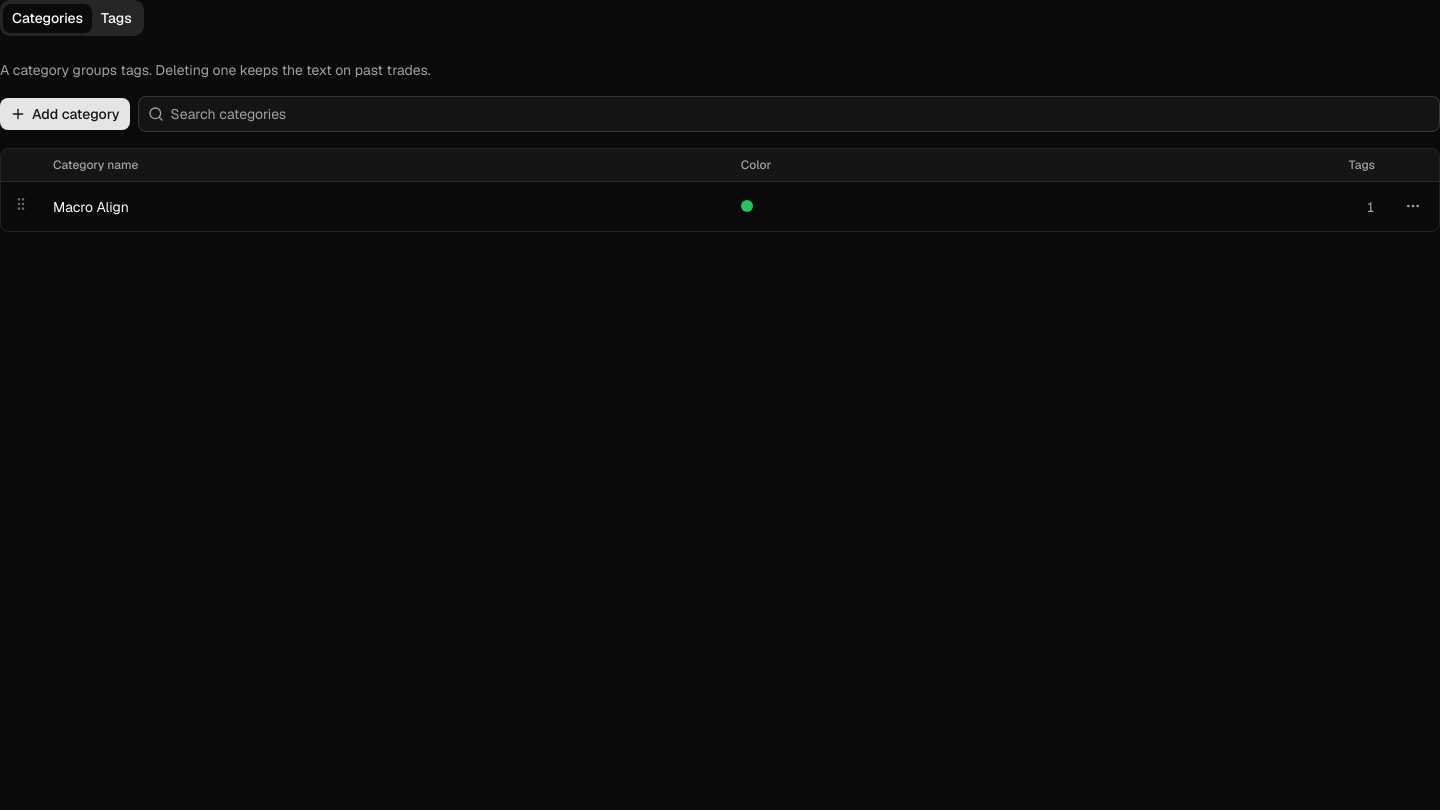
Test: deleting a category › names the custom field that would go with it
Click the button named "Options for Macro Align" at (1413, 206), box [1399, 192, 1427, 220]
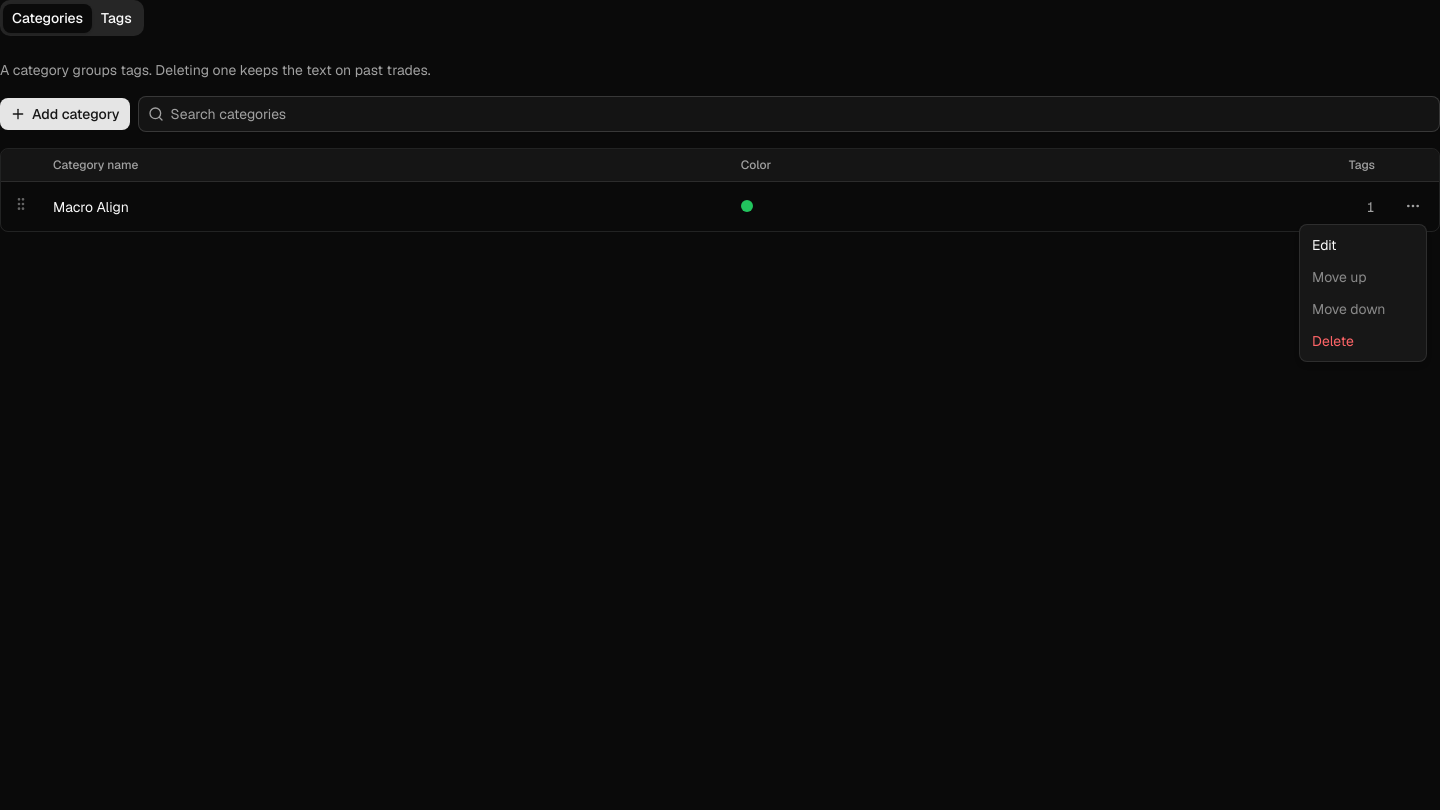
Click the menu item "Delete" at (1333, 341), box [1312, 332, 1354, 350]
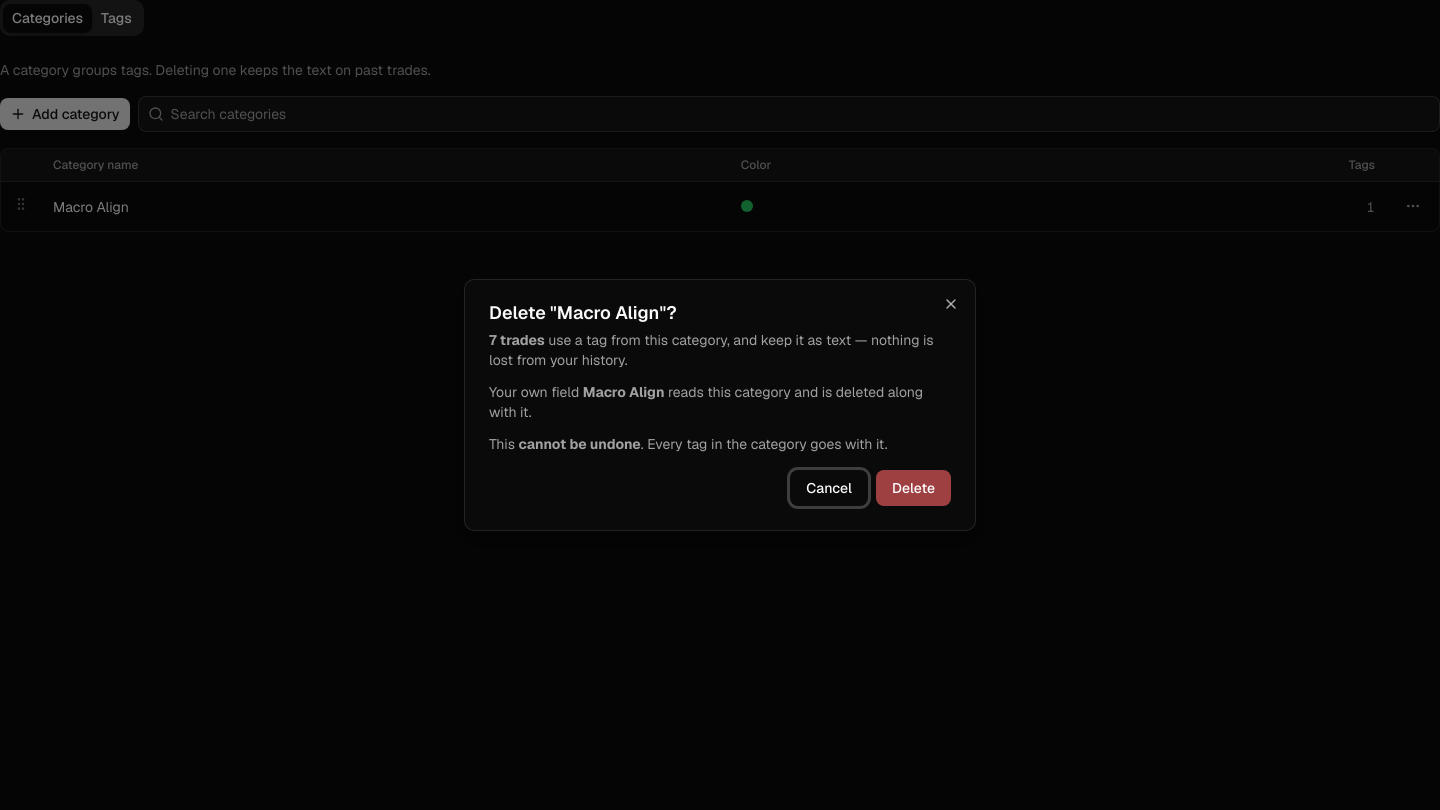
Expected: the text "7 trades" is shown, [489, 331, 545, 349]
Expected: the text "deleted along with it" is shown, [489, 383, 923, 421]
